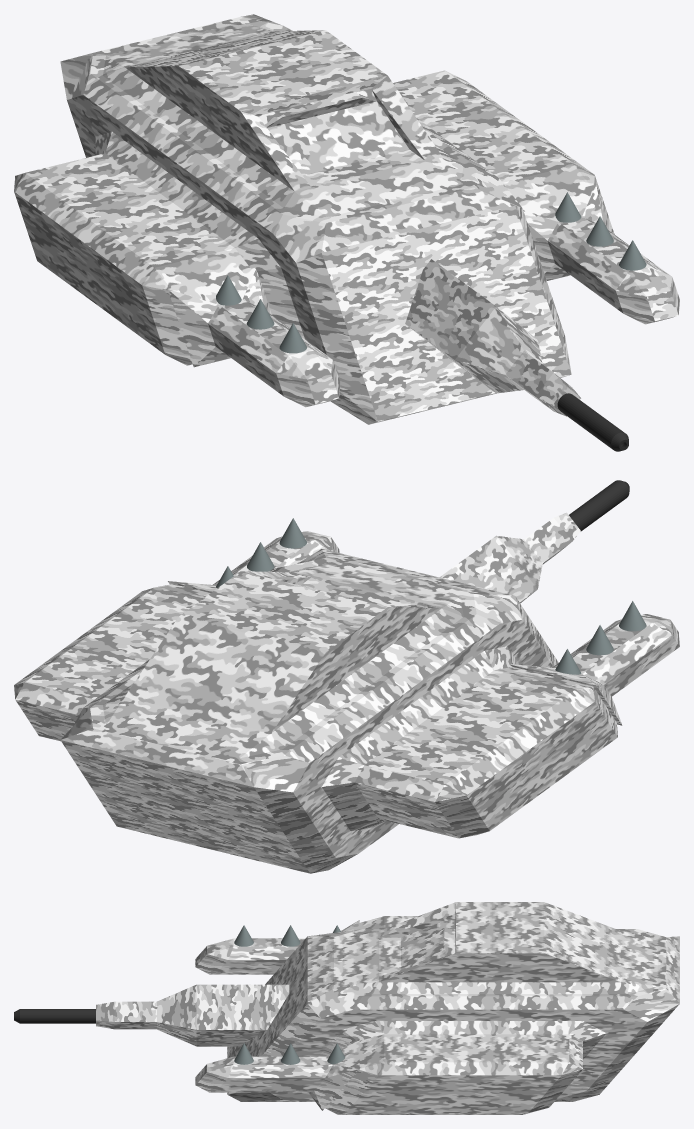
The model's file is normal.glb.
3 views of the same model, one above another, from view 1: azimuth 30°, elevation 25°; view 2: azimuth 150°, elevation 25°; view 3: azimuth 270°, elevation 25° (orthographic). The views are drawn at different scales.
Parts seen in each view (by area): view 1: Cube, Cube.002, Cylinder; view 2: Cube, Cube.002, Cylinder; view 3: Cube, Cube.002, Cylinder.
Boxes of the visible parts, left/top/right/bottom form: Cube: left=14, top=14, right=679, bottom=424; Cube.002: left=405, top=259, right=580, bottom=416; Cylinder: left=557, top=393, right=628, bottom=451; Cube: left=14, top=531, right=679, bottom=873; Cube.002: left=439, top=512, right=580, bottom=603; Cylinder: left=569, top=480, right=629, bottom=531; Cube: left=195, top=902, right=679, bottom=1114; Cube.002: left=96, top=984, right=289, bottom=1046; Cylinder: left=14, top=1009, right=95, bottom=1023.
Bounding box in the file's own units: 4.71 × 1.96 × 8.42.
9 materials, 1 textured.
